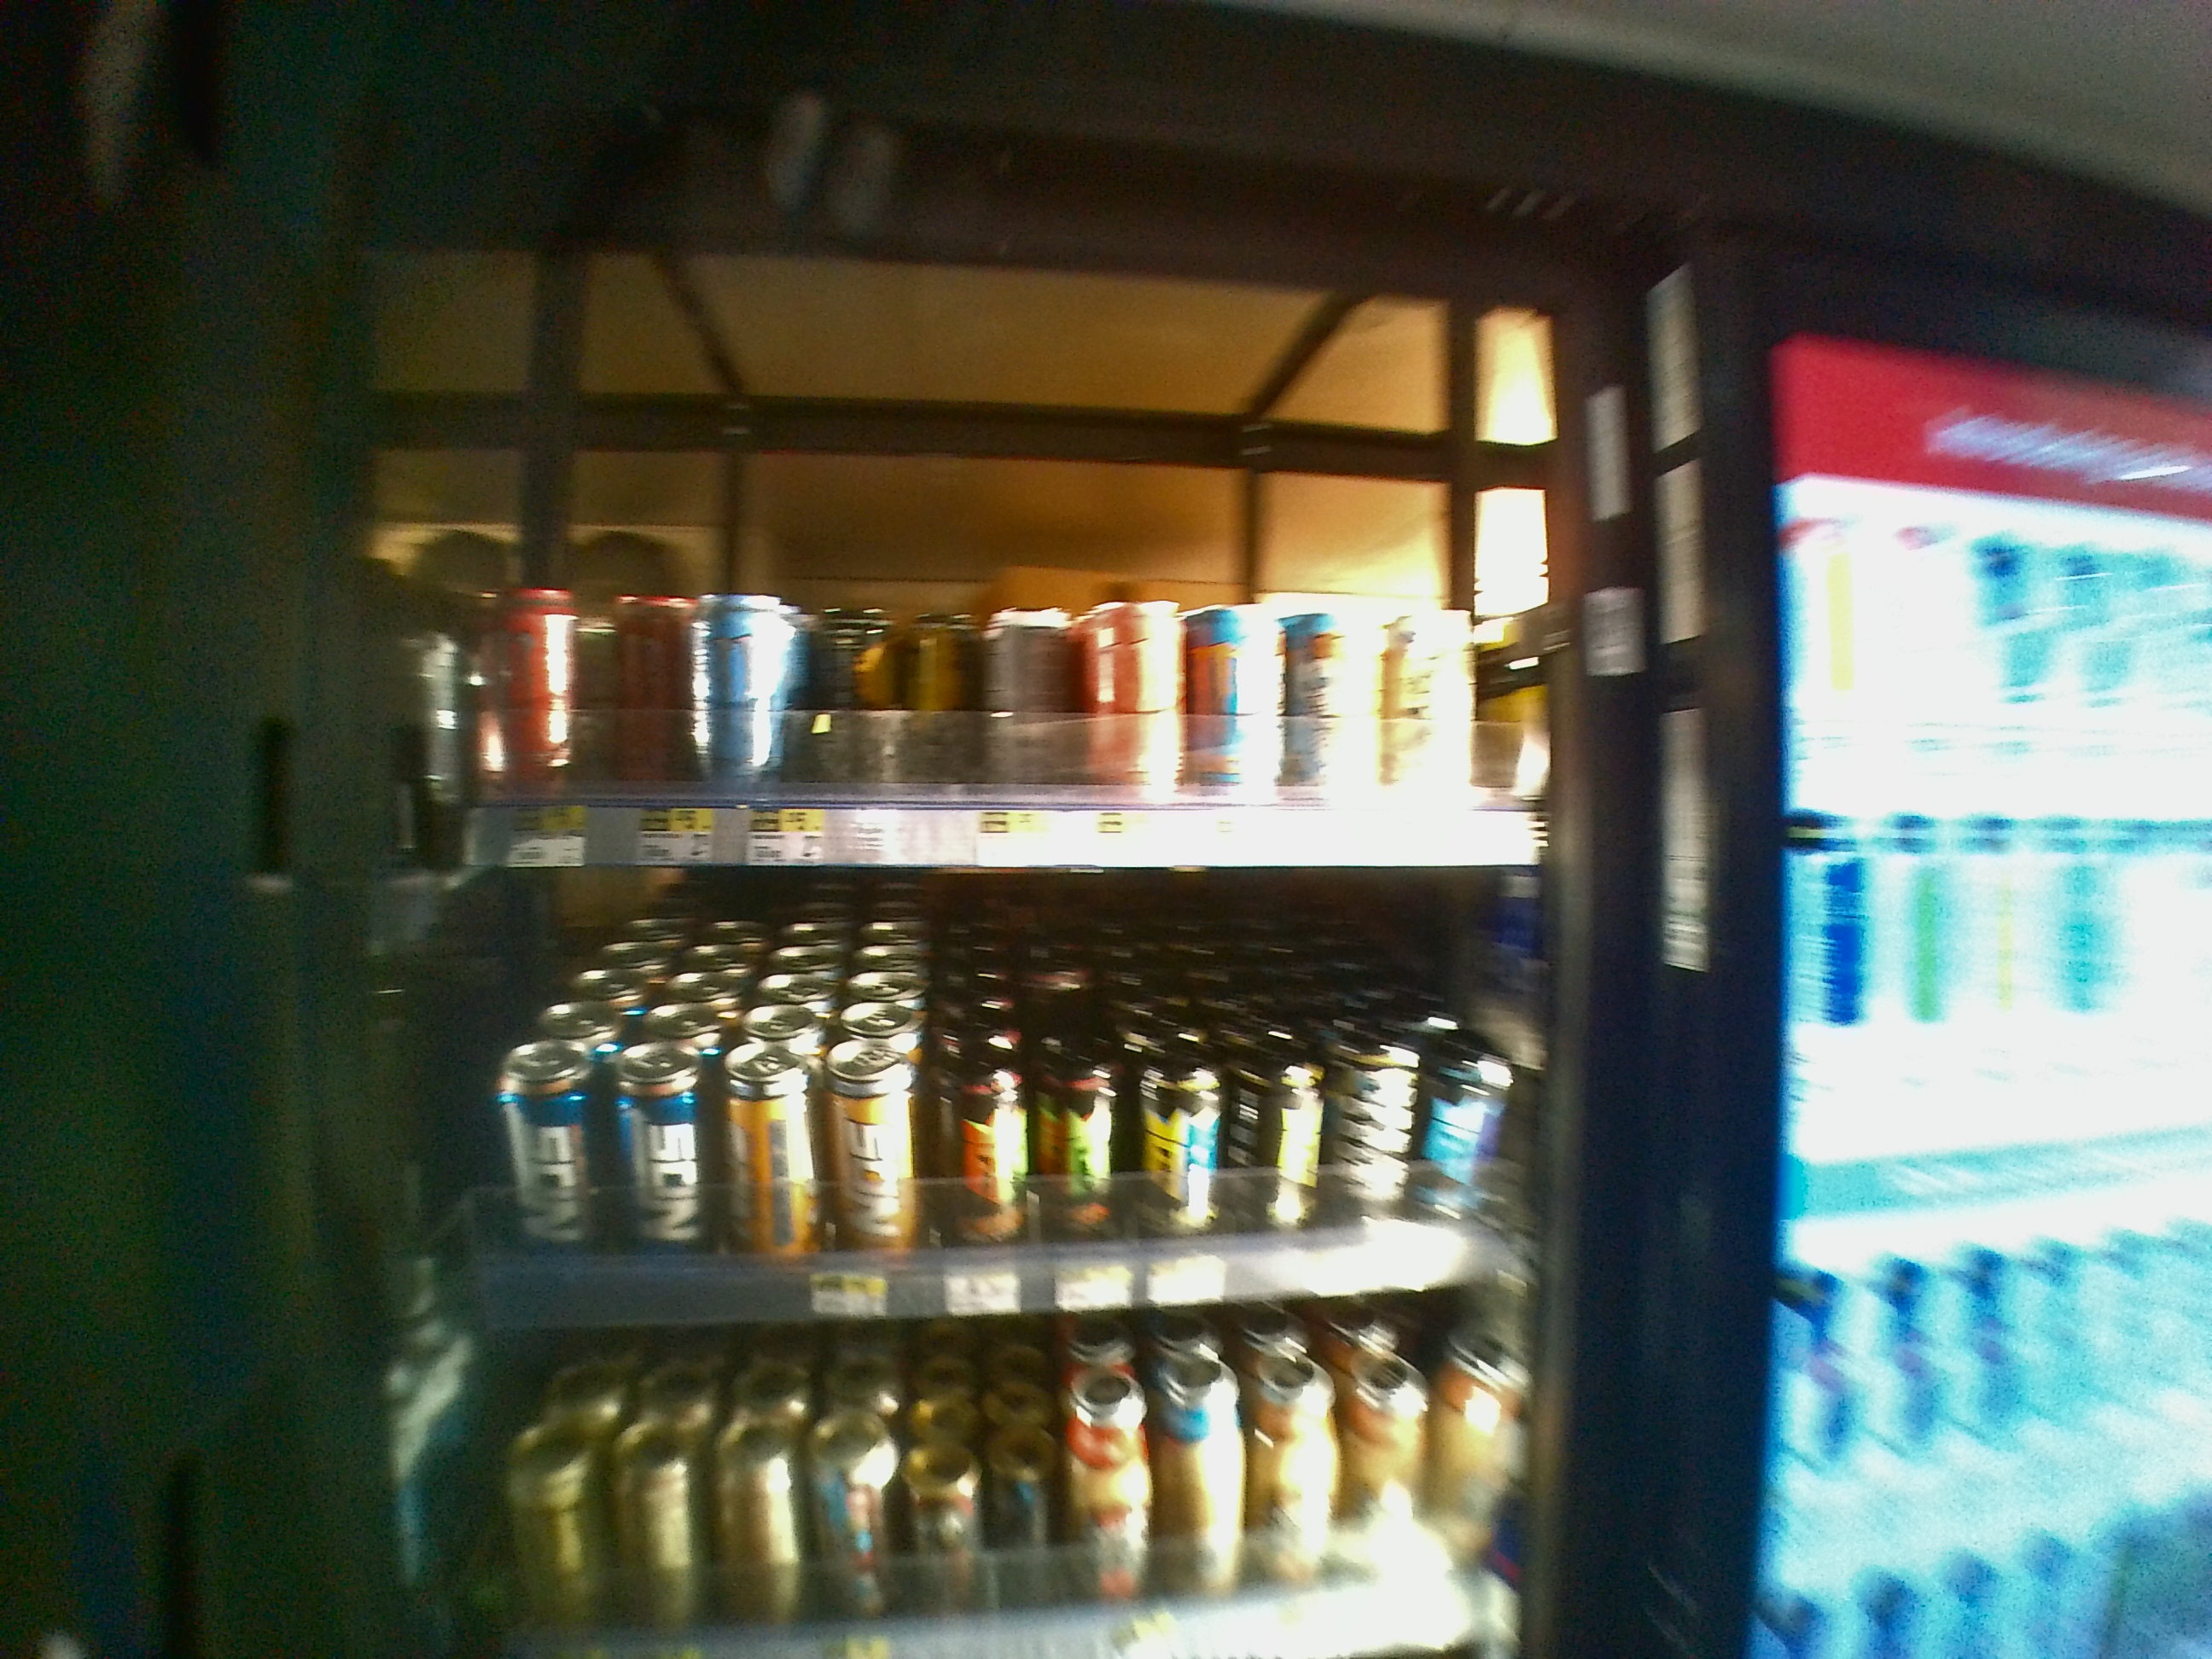shelf: (364, 258, 1568, 871), (362, 871, 1573, 1288)
